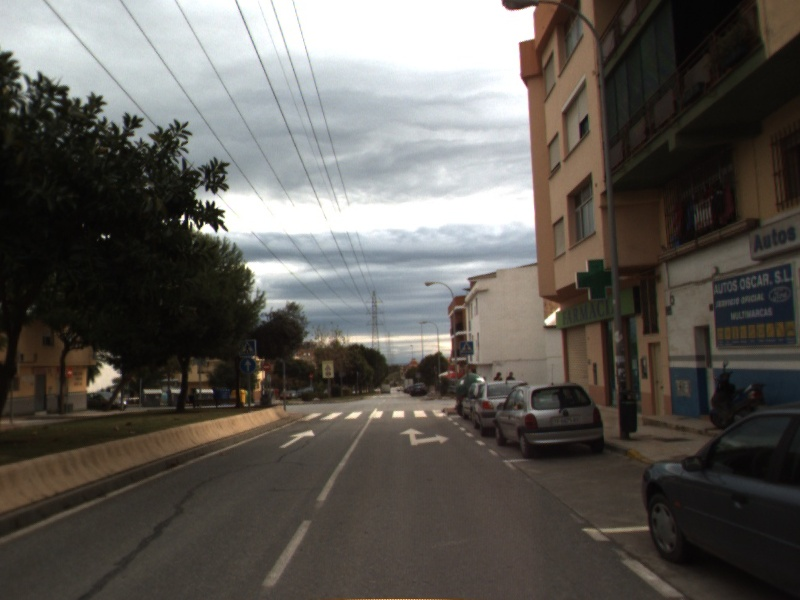STRAIGHT: (277, 428, 317, 450)
STRAIGHT_RIGHT: (397, 426, 452, 447)
